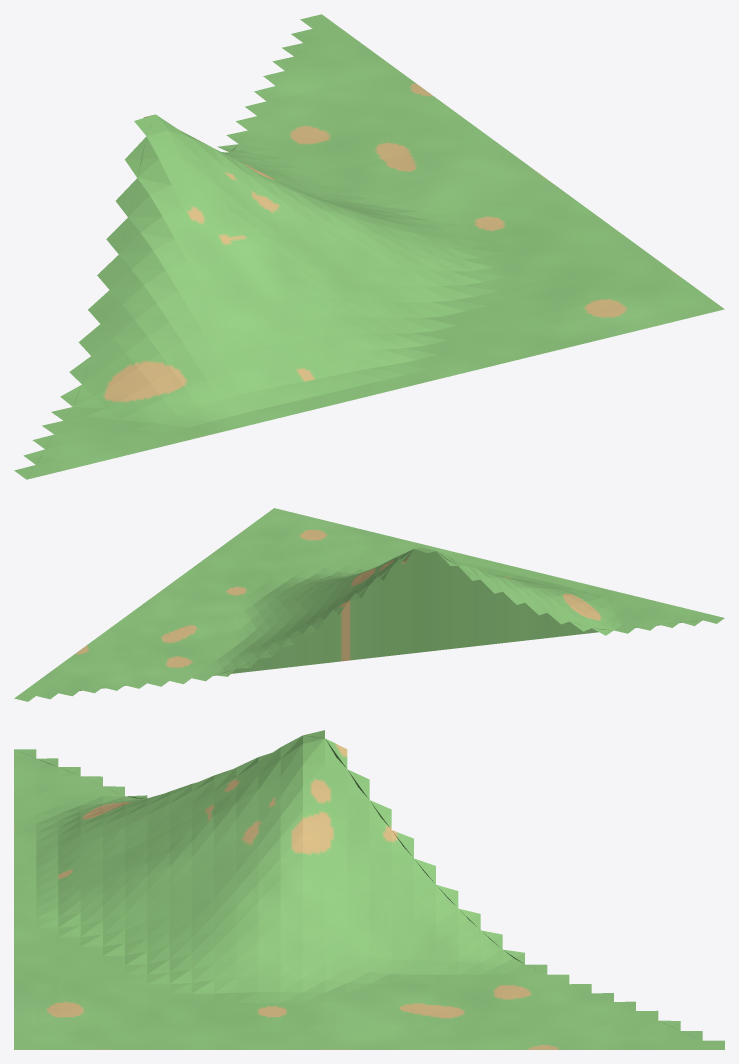
Rendered from Grass_Hills_10_NE.obj.
3 renders of one model, top to bottom at view 1: azimuth 30°, elevation 25°; view 2: azimuth 150°, elevation 25°; view 3: azimuth 270°, elevation 25°, orthographic. The views are drawn at different scales.
Bounding box in the file's own units: 10 × 2.21 × 10.
1 material, 1 textured.
